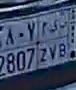0: (16, 29, 27, 72)
2: (0, 26, 5, 78)
7: (26, 21, 35, 71)
8: (4, 26, 16, 75)
B: (59, 19, 67, 58)
V: (48, 18, 58, 62)
Z: (38, 21, 48, 63)
